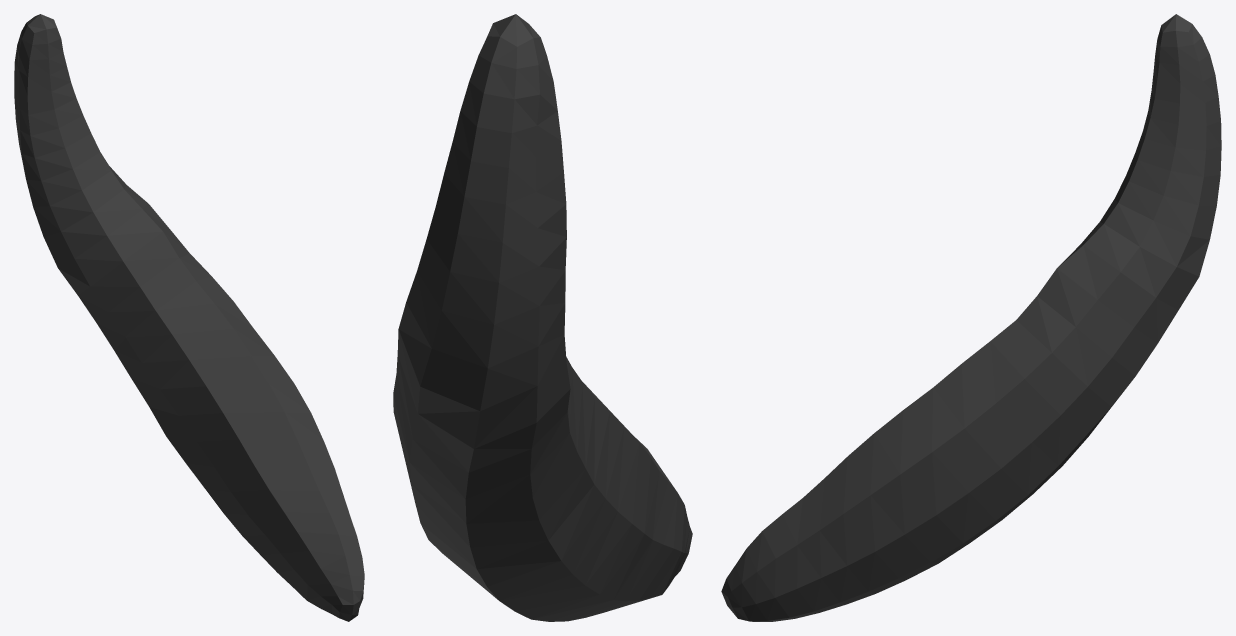
3 views of the same model, side by side, from view 1: azimuth 30°, elevation 25°; view 2: azimuth 150°, elevation 25°; view 3: azimuth 270°, elevation 25° (orthographic). The views are drawn at different scales.
Parts seen in each view (by area): view 1: world; view 2: world; view 3: world.
Boxes of the visible parts, x1,y1,x2,y2 form: world: (14, 14, 364, 621); world: (393, 14, 692, 621); world: (721, 14, 1221, 621).
Size of the model in its own units: 0.0579 by 0.1631 by 0.1351.
1 material, 1 textured.
